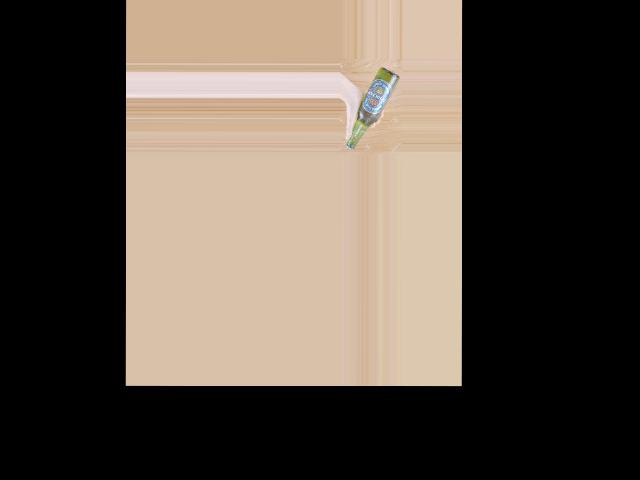beer: (345, 66, 399, 149)
